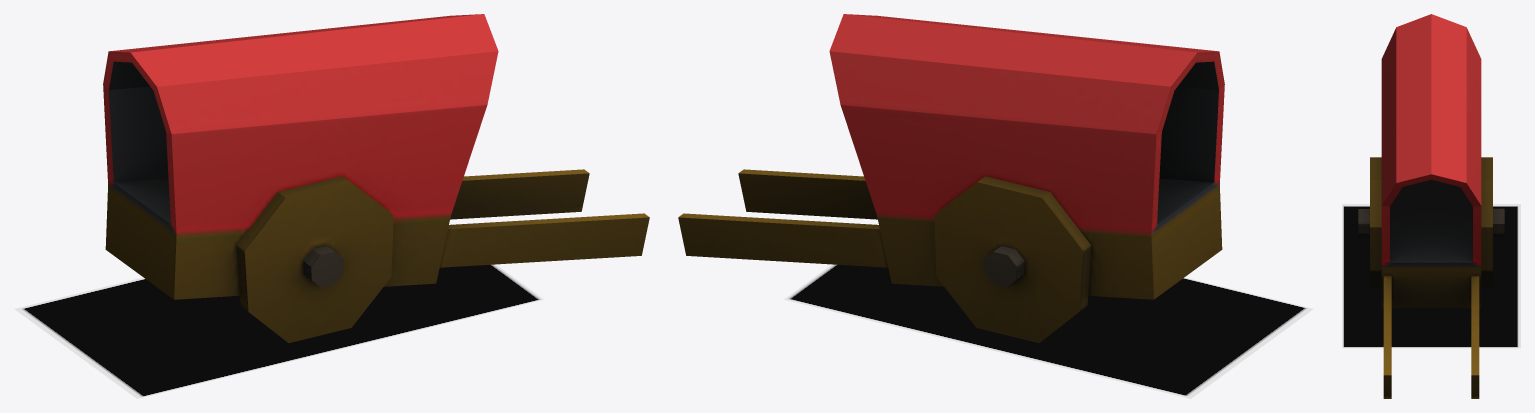
File: 3x1_cart.FBX
3 views of the same model, side by side, from view 1: azimuth 30°, elevation 25°; view 2: azimuth 150°, elevation 25°; view 3: azimuth 270°, elevation 25° (orthographic). The views are drawn at different scales.
Visible parts, largest first — view 1: 3x1_cart, 3x1_cart_soft_shadow; view 2: 3x1_cart, 3x1_cart_soft_shadow; view 3: 3x1_cart, 3x1_cart_soft_shadow.
Part boxes in pixels (box(x1,y1,x2,y2)): 3x1_cart: box(103, 14, 649, 343); 3x1_cart_soft_shadow: box(14, 264, 543, 398); 3x1_cart: box(678, 14, 1224, 343); 3x1_cart_soft_shadow: box(784, 264, 1313, 398); 3x1_cart: box(1358, 14, 1504, 398); 3x1_cart_soft_shadow: box(1342, 204, 1520, 348).
Bounding box in the file's own units: 3130 × 1635 × 1231.
